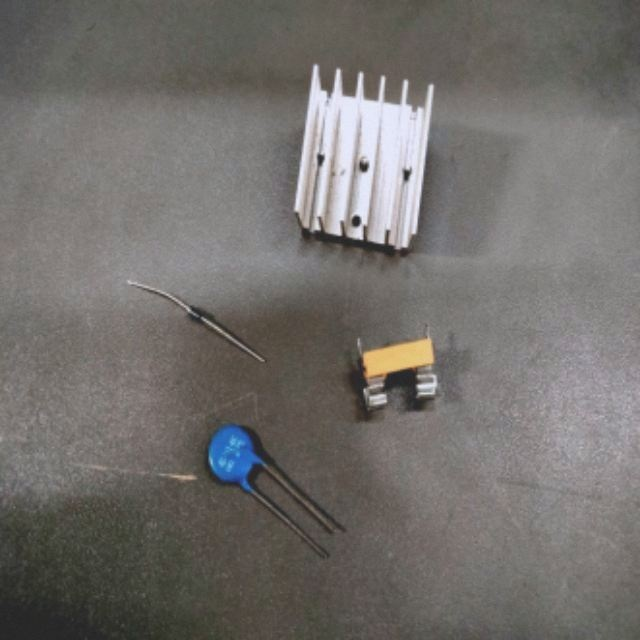capacitor: (209, 426, 279, 498)
